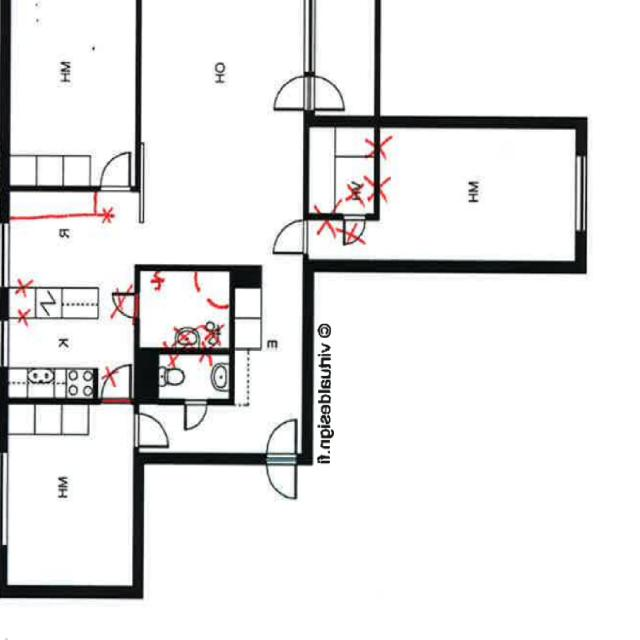door: (270, 74, 314, 112), (303, 74, 347, 112), (266, 450, 298, 500), (266, 414, 298, 464), (272, 220, 310, 256), (99, 148, 131, 190), (134, 414, 172, 449), (183, 399, 208, 432)
